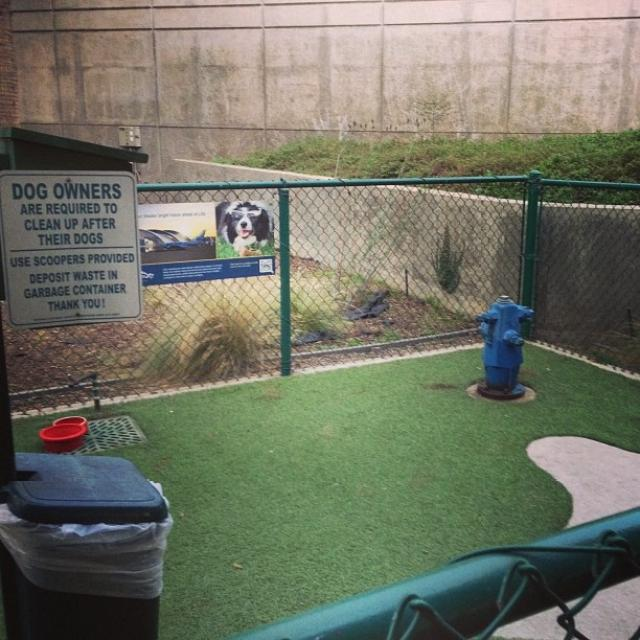ash bin: (2, 449, 170, 632)
fire_hydrant: (474, 294, 536, 398)
